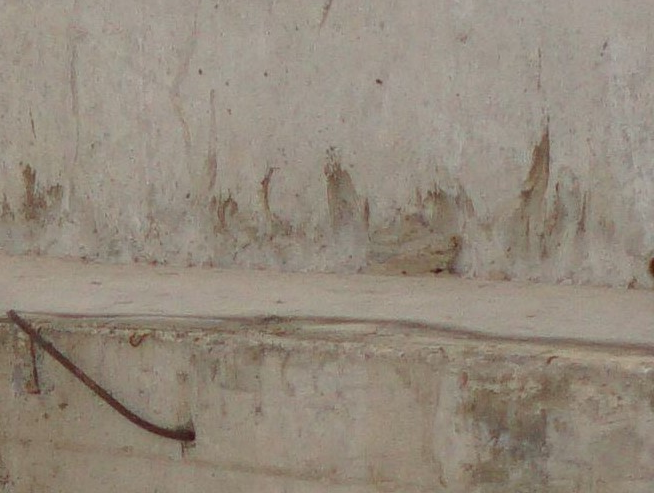Exposed reinforcement: (5, 309, 196, 442)
